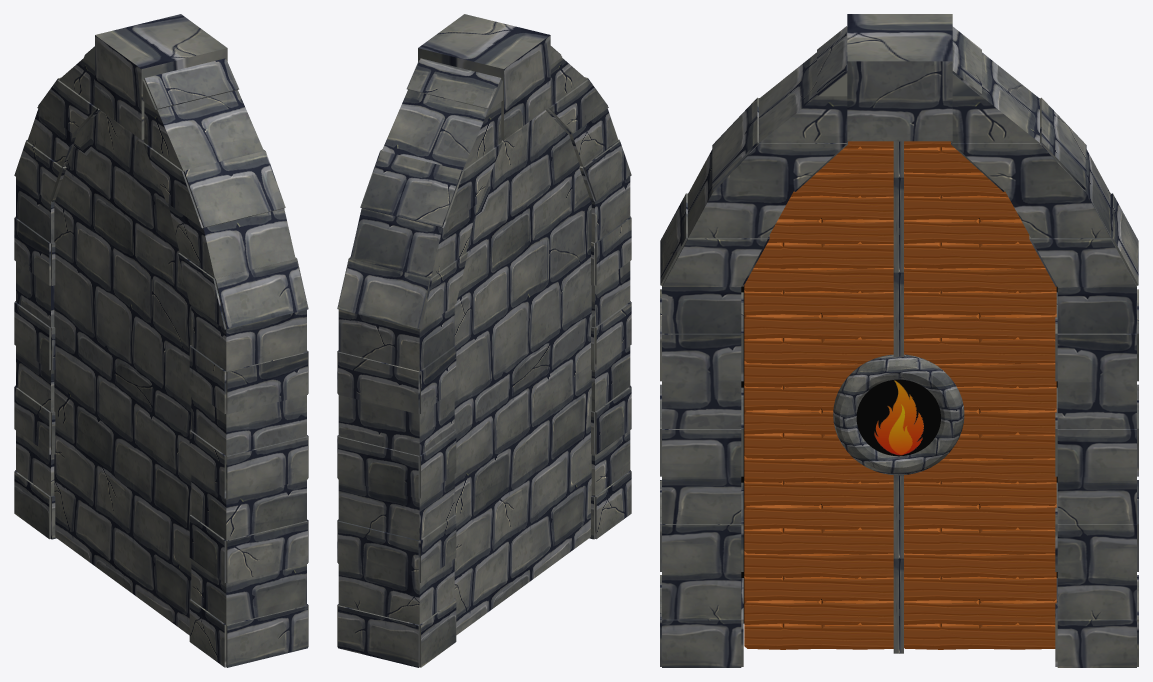
The model's file is PuertaFuego.fbx.
The picture shows the model from 3 angles, left to right: view 1: azimuth 30°, elevation 25°; view 2: azimuth 150°, elevation 25°; view 3: azimuth 270°, elevation 25°; orthographic projection. The views are drawn at different scales.
Parts seen in each view (by area): view 1: Cube, Plane.001; view 2: Cube, Plane.001; view 3: Cube.002, Cube, Torus, Cylinder, Cube.001, Plane.
Part boxes in pixels (x1=…): Cube: x1=14, y1=14, x2=308, y2=667; Plane.001: x1=54, y1=110, x2=191, y2=635; Cube: x1=337, y1=14, x2=631, y2=667; Plane.001: x1=454, y1=110, x2=591, y2=635; Cube.002: x1=744, y1=141, x2=1056, y2=649; Cube: x1=660, y1=14, x2=1138, y2=667; Torus: x1=833, y1=354, x2=964, y2=475; Cylinder: x1=856, y1=379, x2=940, y2=456; Cube.001: x1=893, y1=141, x2=903, y2=653; Plane: x1=741, y1=218, x2=1057, y2=623.
Bounding box in the file's own units: 213 × 1275 × 911.
